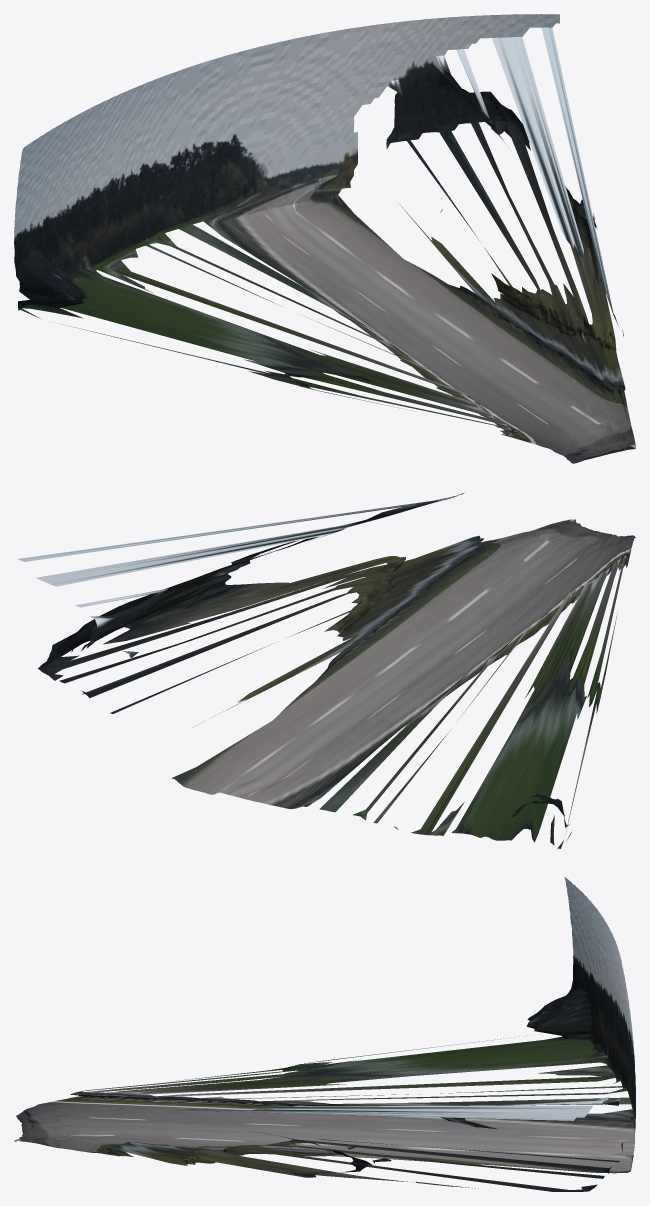
The picture shows the model from 3 angles, top to bottom: view 1: azimuth 30°, elevation 25°; view 2: azimuth 150°, elevation 25°; view 3: azimuth 270°, elevation 25°; orthographic projection. The views are drawn at different scales.
Visible parts, largest first — view 1: defaultobject; view 2: defaultobject; view 3: defaultobject.
Part boxes in pixels (bbox=[...]): defaultobject: bbox=[14, 14, 635, 463]; defaultobject: bbox=[18, 492, 635, 848]; defaultobject: bbox=[14, 877, 635, 1191].
Size of the model in its own units: 40.23 by 12.76 by 44.75.
Materials: 1 (1 with a texture image).
